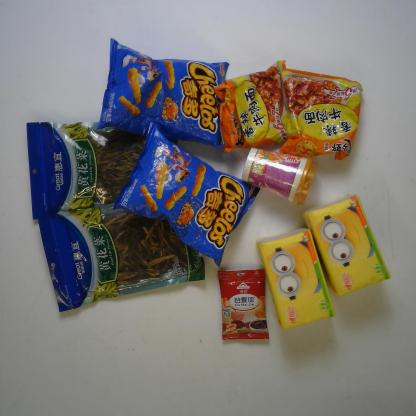Dried Food: (38, 203, 206, 313), (24, 120, 146, 217)
Instant Drink: (240, 147, 318, 206), (216, 268, 270, 341)
Instant Noodles: (280, 67, 364, 161), (215, 57, 287, 153)
Puffed Food: (112, 120, 260, 268), (98, 37, 227, 151)
Tissue: (301, 194, 391, 299), (254, 229, 337, 332)
